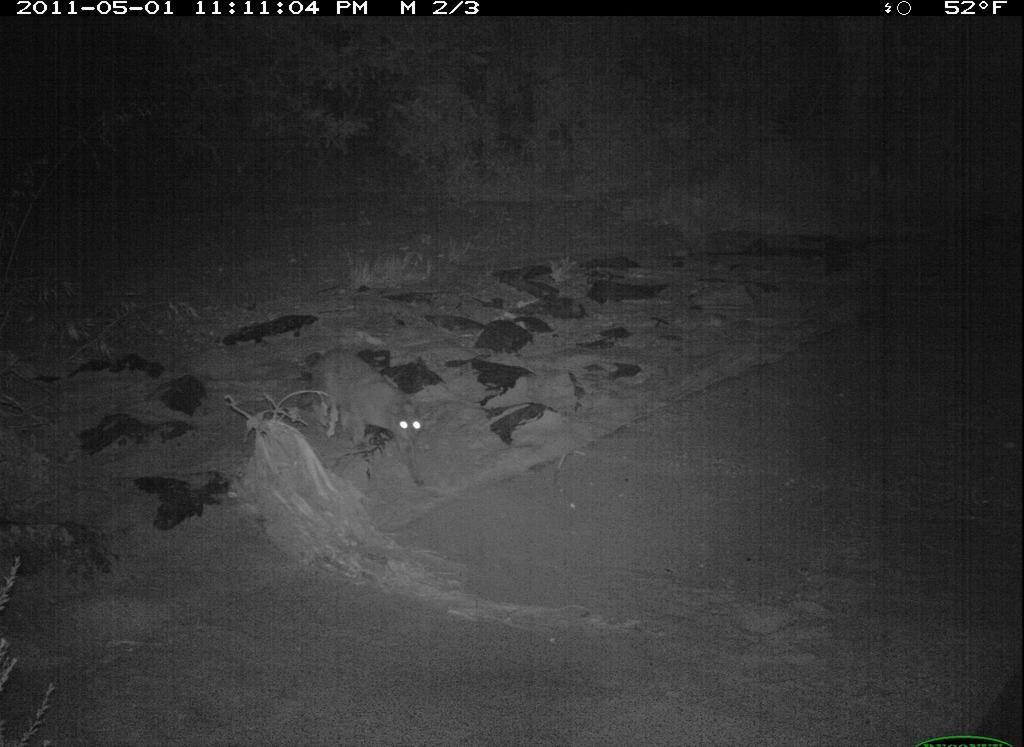cat: (285, 333, 450, 501)
